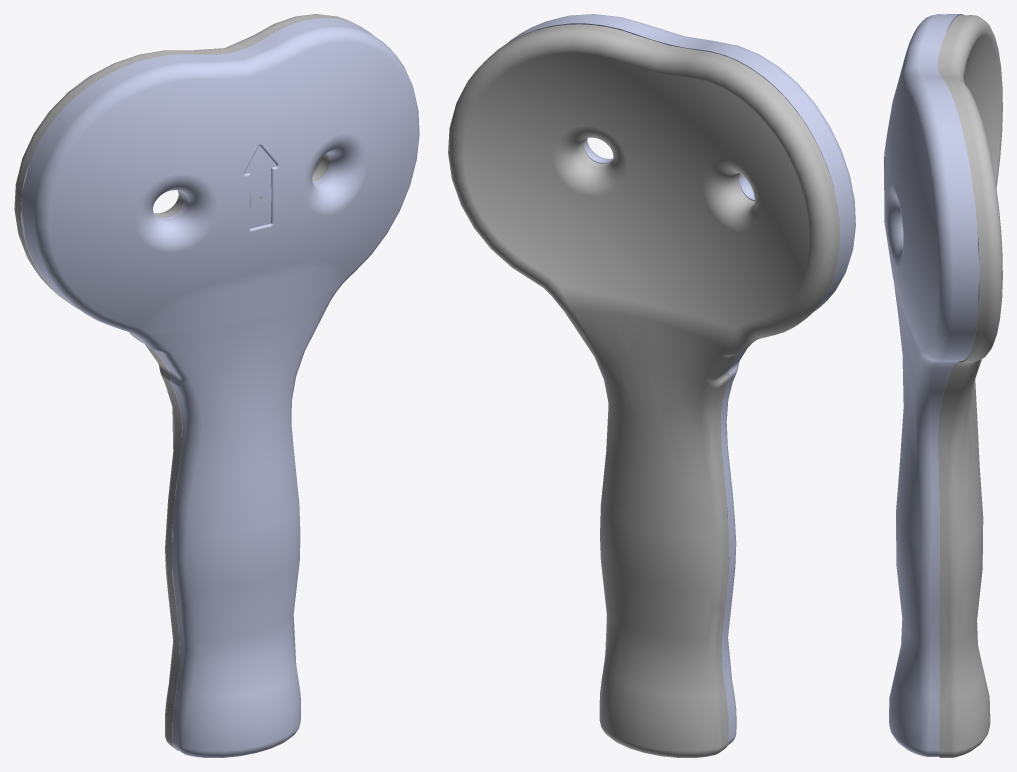
The model's file is coil.dae.
The picture shows the model from 3 angles, left to right: view 1: azimuth 30°, elevation 25°; view 2: azimuth 150°, elevation 25°; view 3: azimuth 270°, elevation 25°; orthographic projection. The views are drawn at different scales.
Parts seen in each view (by area): view 1: FBXASC208FBXASC188FBXASC208FBXASC190FBXASC208FBXASC180FBXASC (×2); view 2: FBXASC208FBXASC188FBXASC208FBXASC190FBXASC208FBXASC180FBXASC (×2); view 3: FBXASC208FBXASC188FBXASC208FBXASC190FBXASC208FBXASC180FBXASC (×2).
Part boxes in pixels (x1,y1,x2,y2): FBXASC208FBXASC188FBXASC208FBXASC190FBXASC208FBXASC180FBXASC (×2): (14, 14, 419, 757); FBXASC208FBXASC188FBXASC208FBXASC190FBXASC208FBXASC180FBXASC (×2): (448, 14, 855, 757); FBXASC208FBXASC188FBXASC208FBXASC190FBXASC208FBXASC180FBXASC (×2): (884, 14, 1002, 757).
Size of the model in its own units: 0.1787 by 0.3102 by 0.0494.
